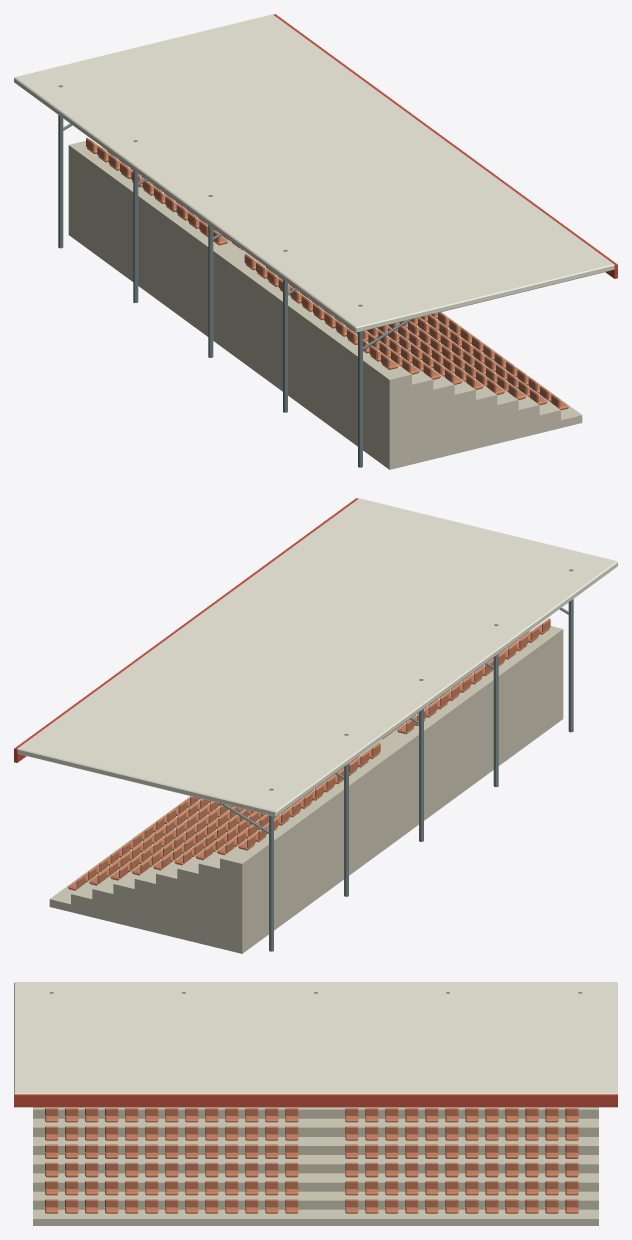
The model's file is ENV_Monza_Grandstand_30m.glb.
The picture shows the model from 3 angles, top to bottom: view 1: azimuth 30°, elevation 25°; view 2: azimuth 150°, elevation 25°; view 3: azimuth 270°, elevation 25°; orthographic projection. The views are drawn at different scales.
Parts seen in each view (by area): view 1: ENV_Monza_Grandstand_30m; view 2: ENV_Monza_Grandstand_30m; view 3: ENV_Monza_Grandstand_30m.
Boxes of the visible parts, x1,y1,x2,y2 form: ENV_Monza_Grandstand_30m: [14, 14, 617, 469]; ENV_Monza_Grandstand_30m: [14, 498, 617, 953]; ENV_Monza_Grandstand_30m: [14, 982, 617, 1225].
Bounding box in the file's own units: 14.14 × 8.3 × 32.
